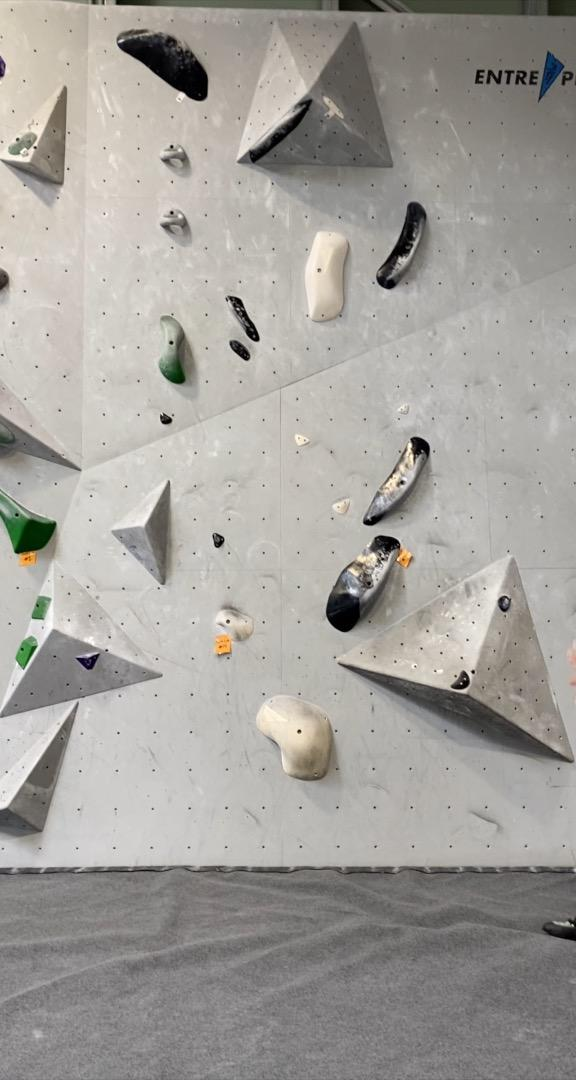holds: (324, 534, 401, 633), (116, 27, 210, 102), (255, 694, 334, 782), (363, 436, 431, 526), (0, 469, 58, 555), (375, 200, 428, 291), (247, 98, 314, 165), (303, 229, 349, 324), (157, 312, 187, 386), (224, 294, 262, 343), (214, 607, 255, 643), (14, 635, 39, 671), (7, 131, 38, 157), (158, 206, 188, 231), (0, 407, 17, 446), (158, 141, 187, 163), (322, 95, 346, 121), (30, 595, 53, 621), (228, 339, 252, 363), (75, 651, 102, 671), (450, 669, 471, 691), (0, 262, 11, 295), (332, 498, 352, 516), (497, 594, 512, 613), (211, 531, 226, 549), (294, 433, 311, 447), (0, 52, 7, 81), (159, 411, 173, 425), (397, 403, 410, 414)
